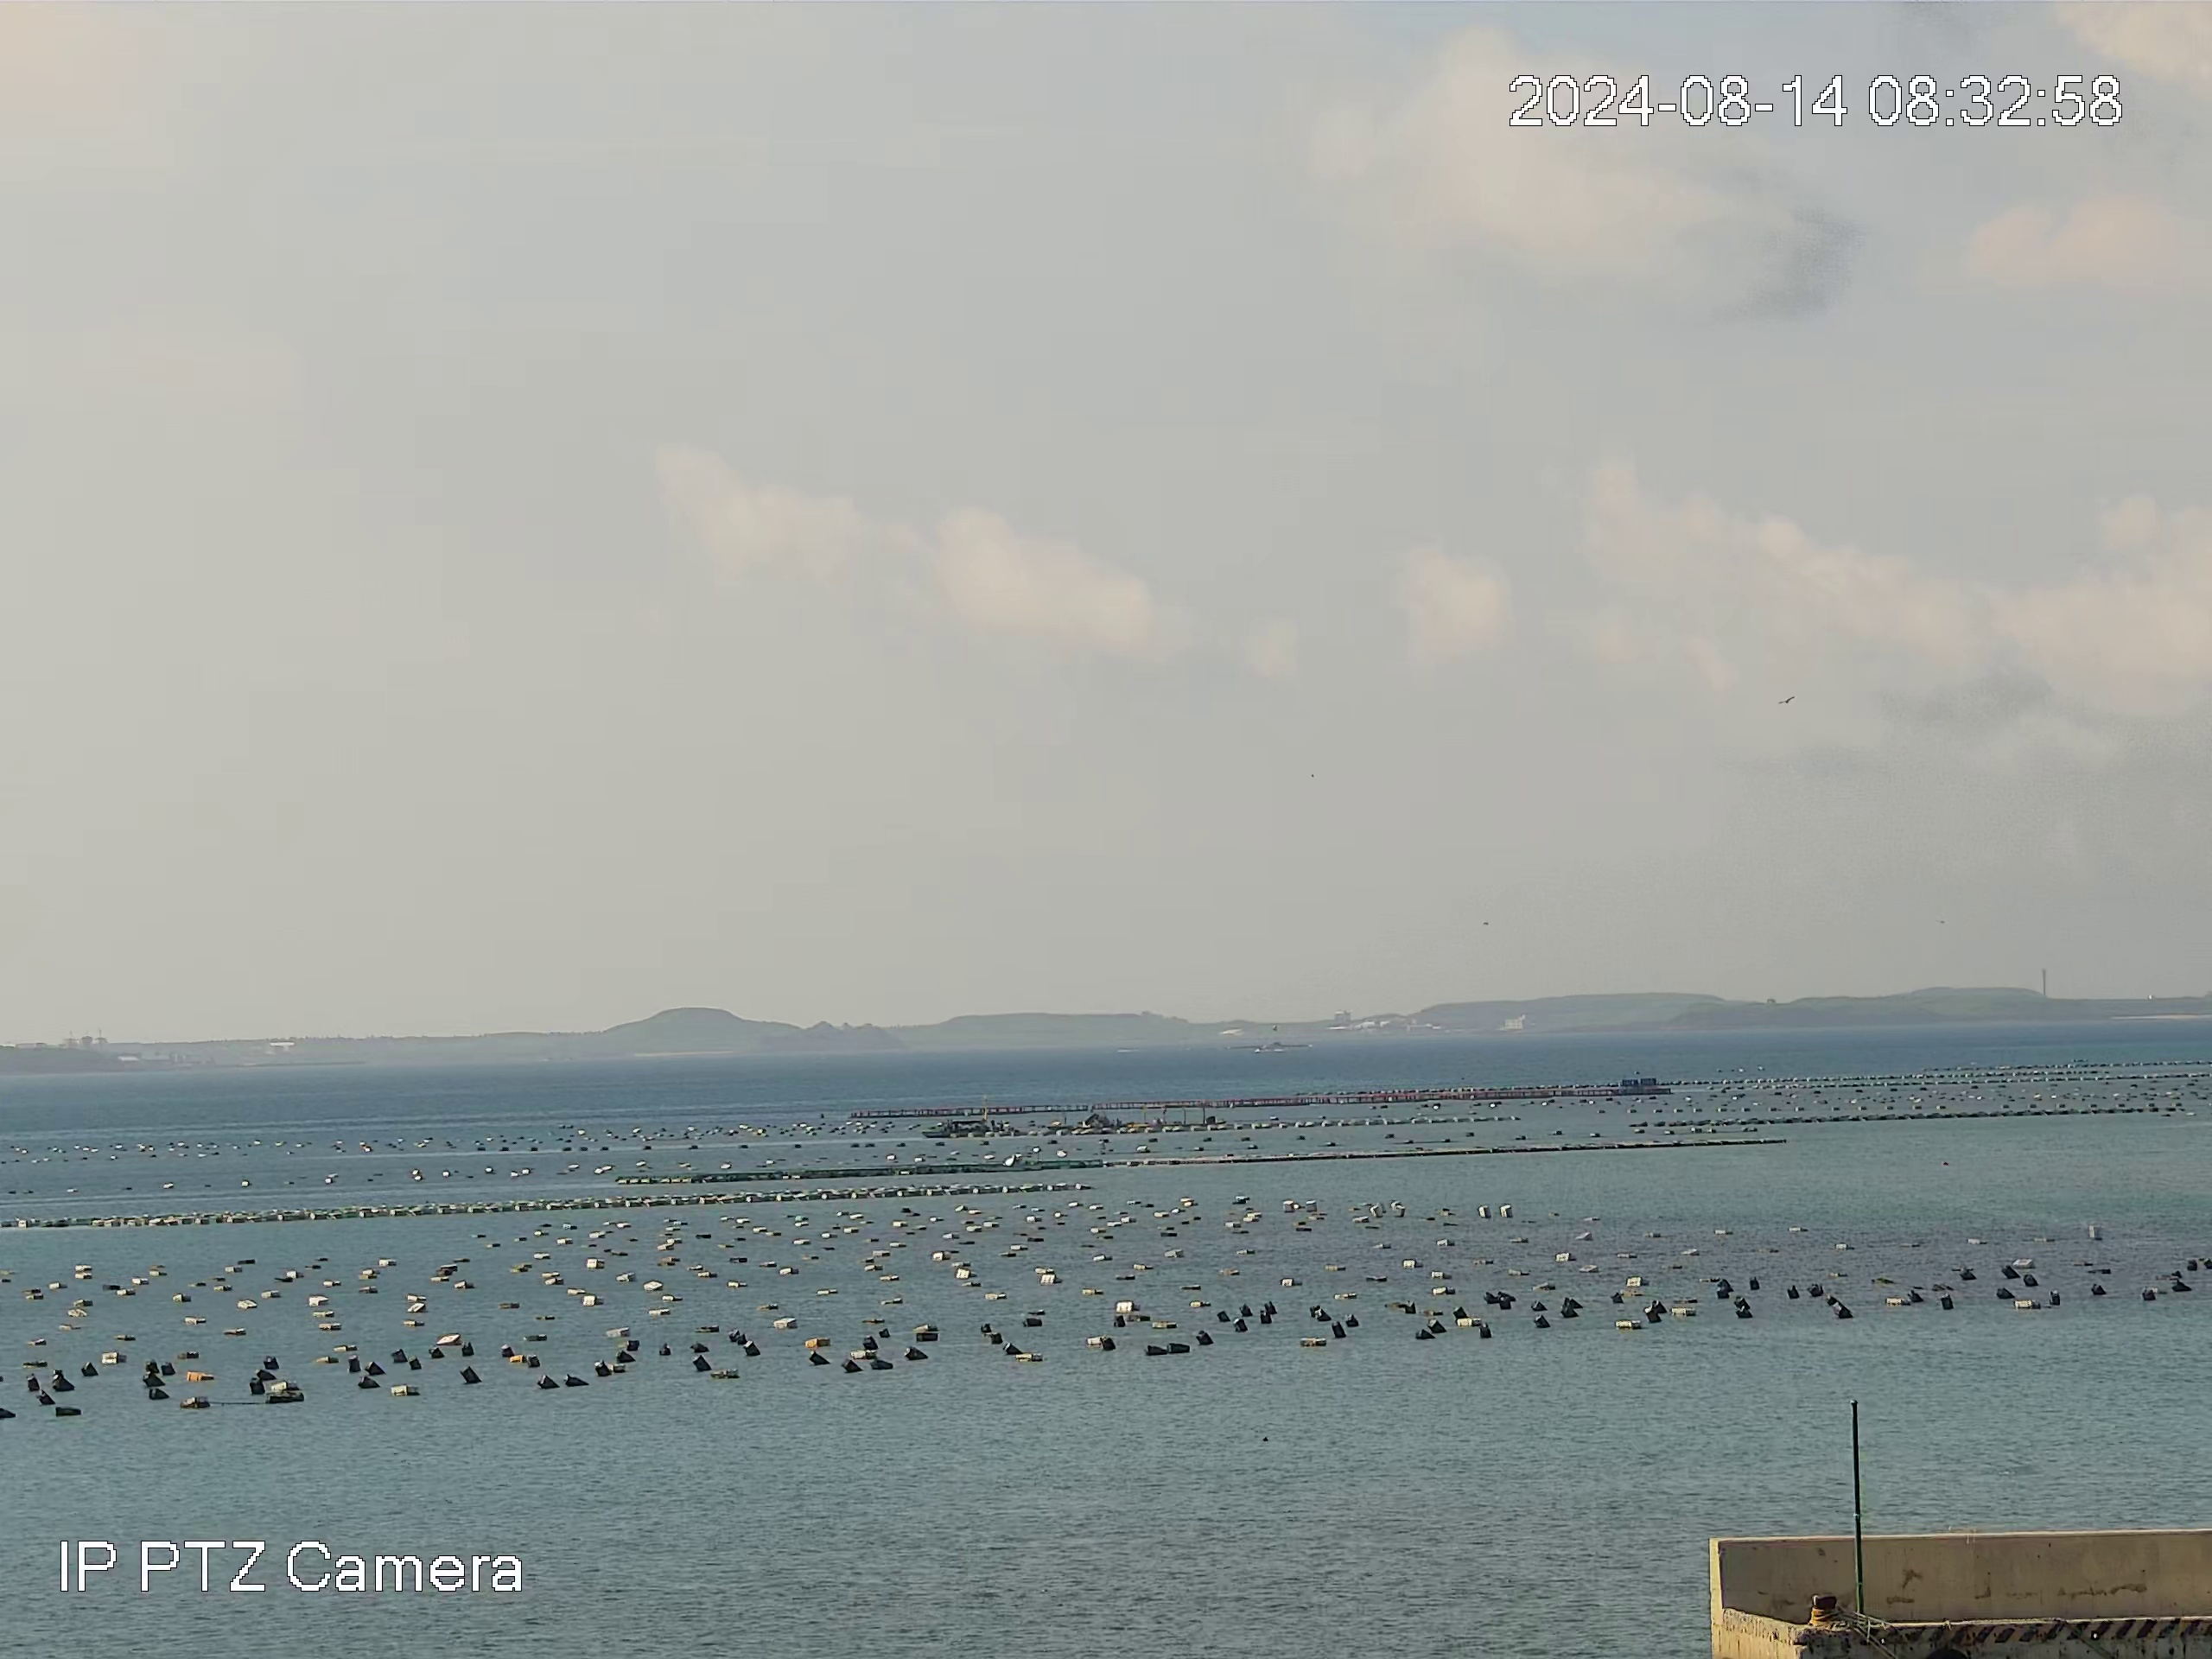boat: (927, 1117, 1008, 1141)
